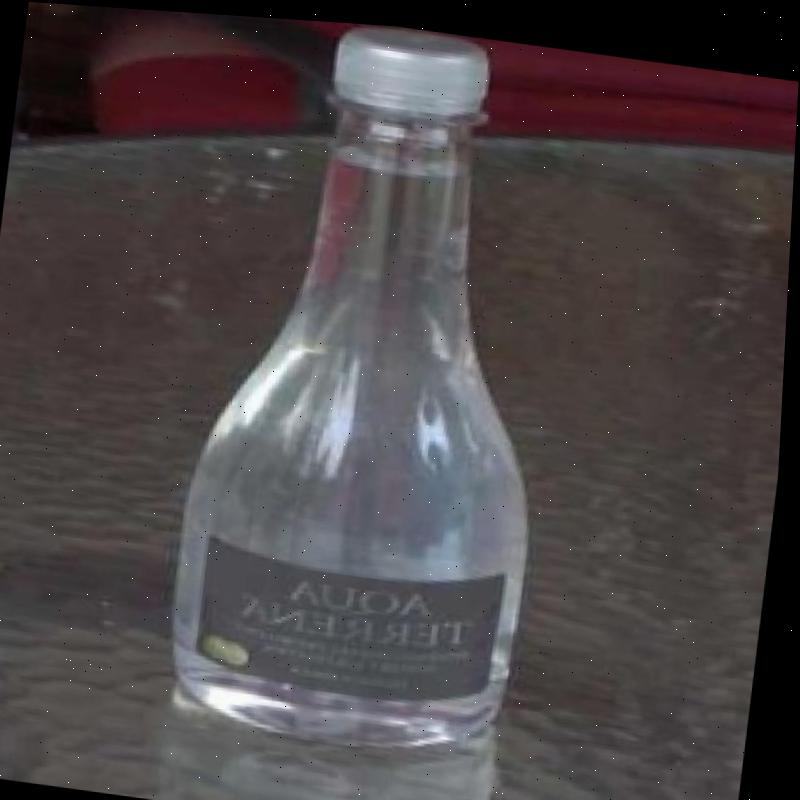botella: (161, 10, 590, 762)
